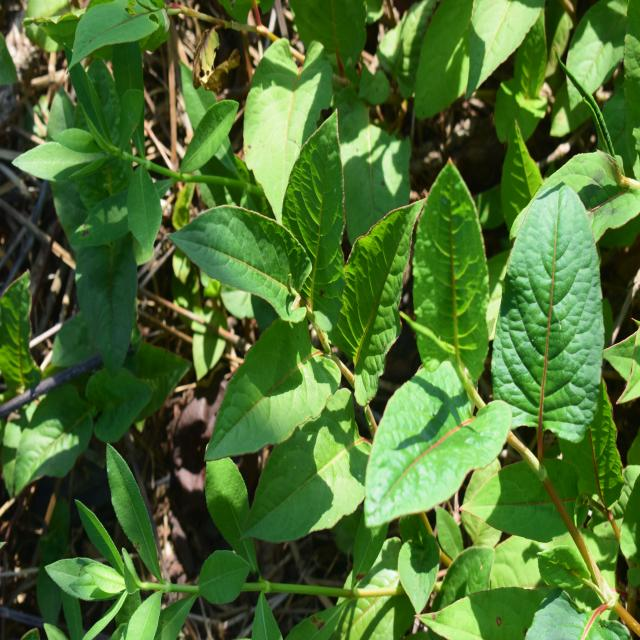Chinese_knotweed: (198, 135, 412, 524), (388, 144, 610, 516)
